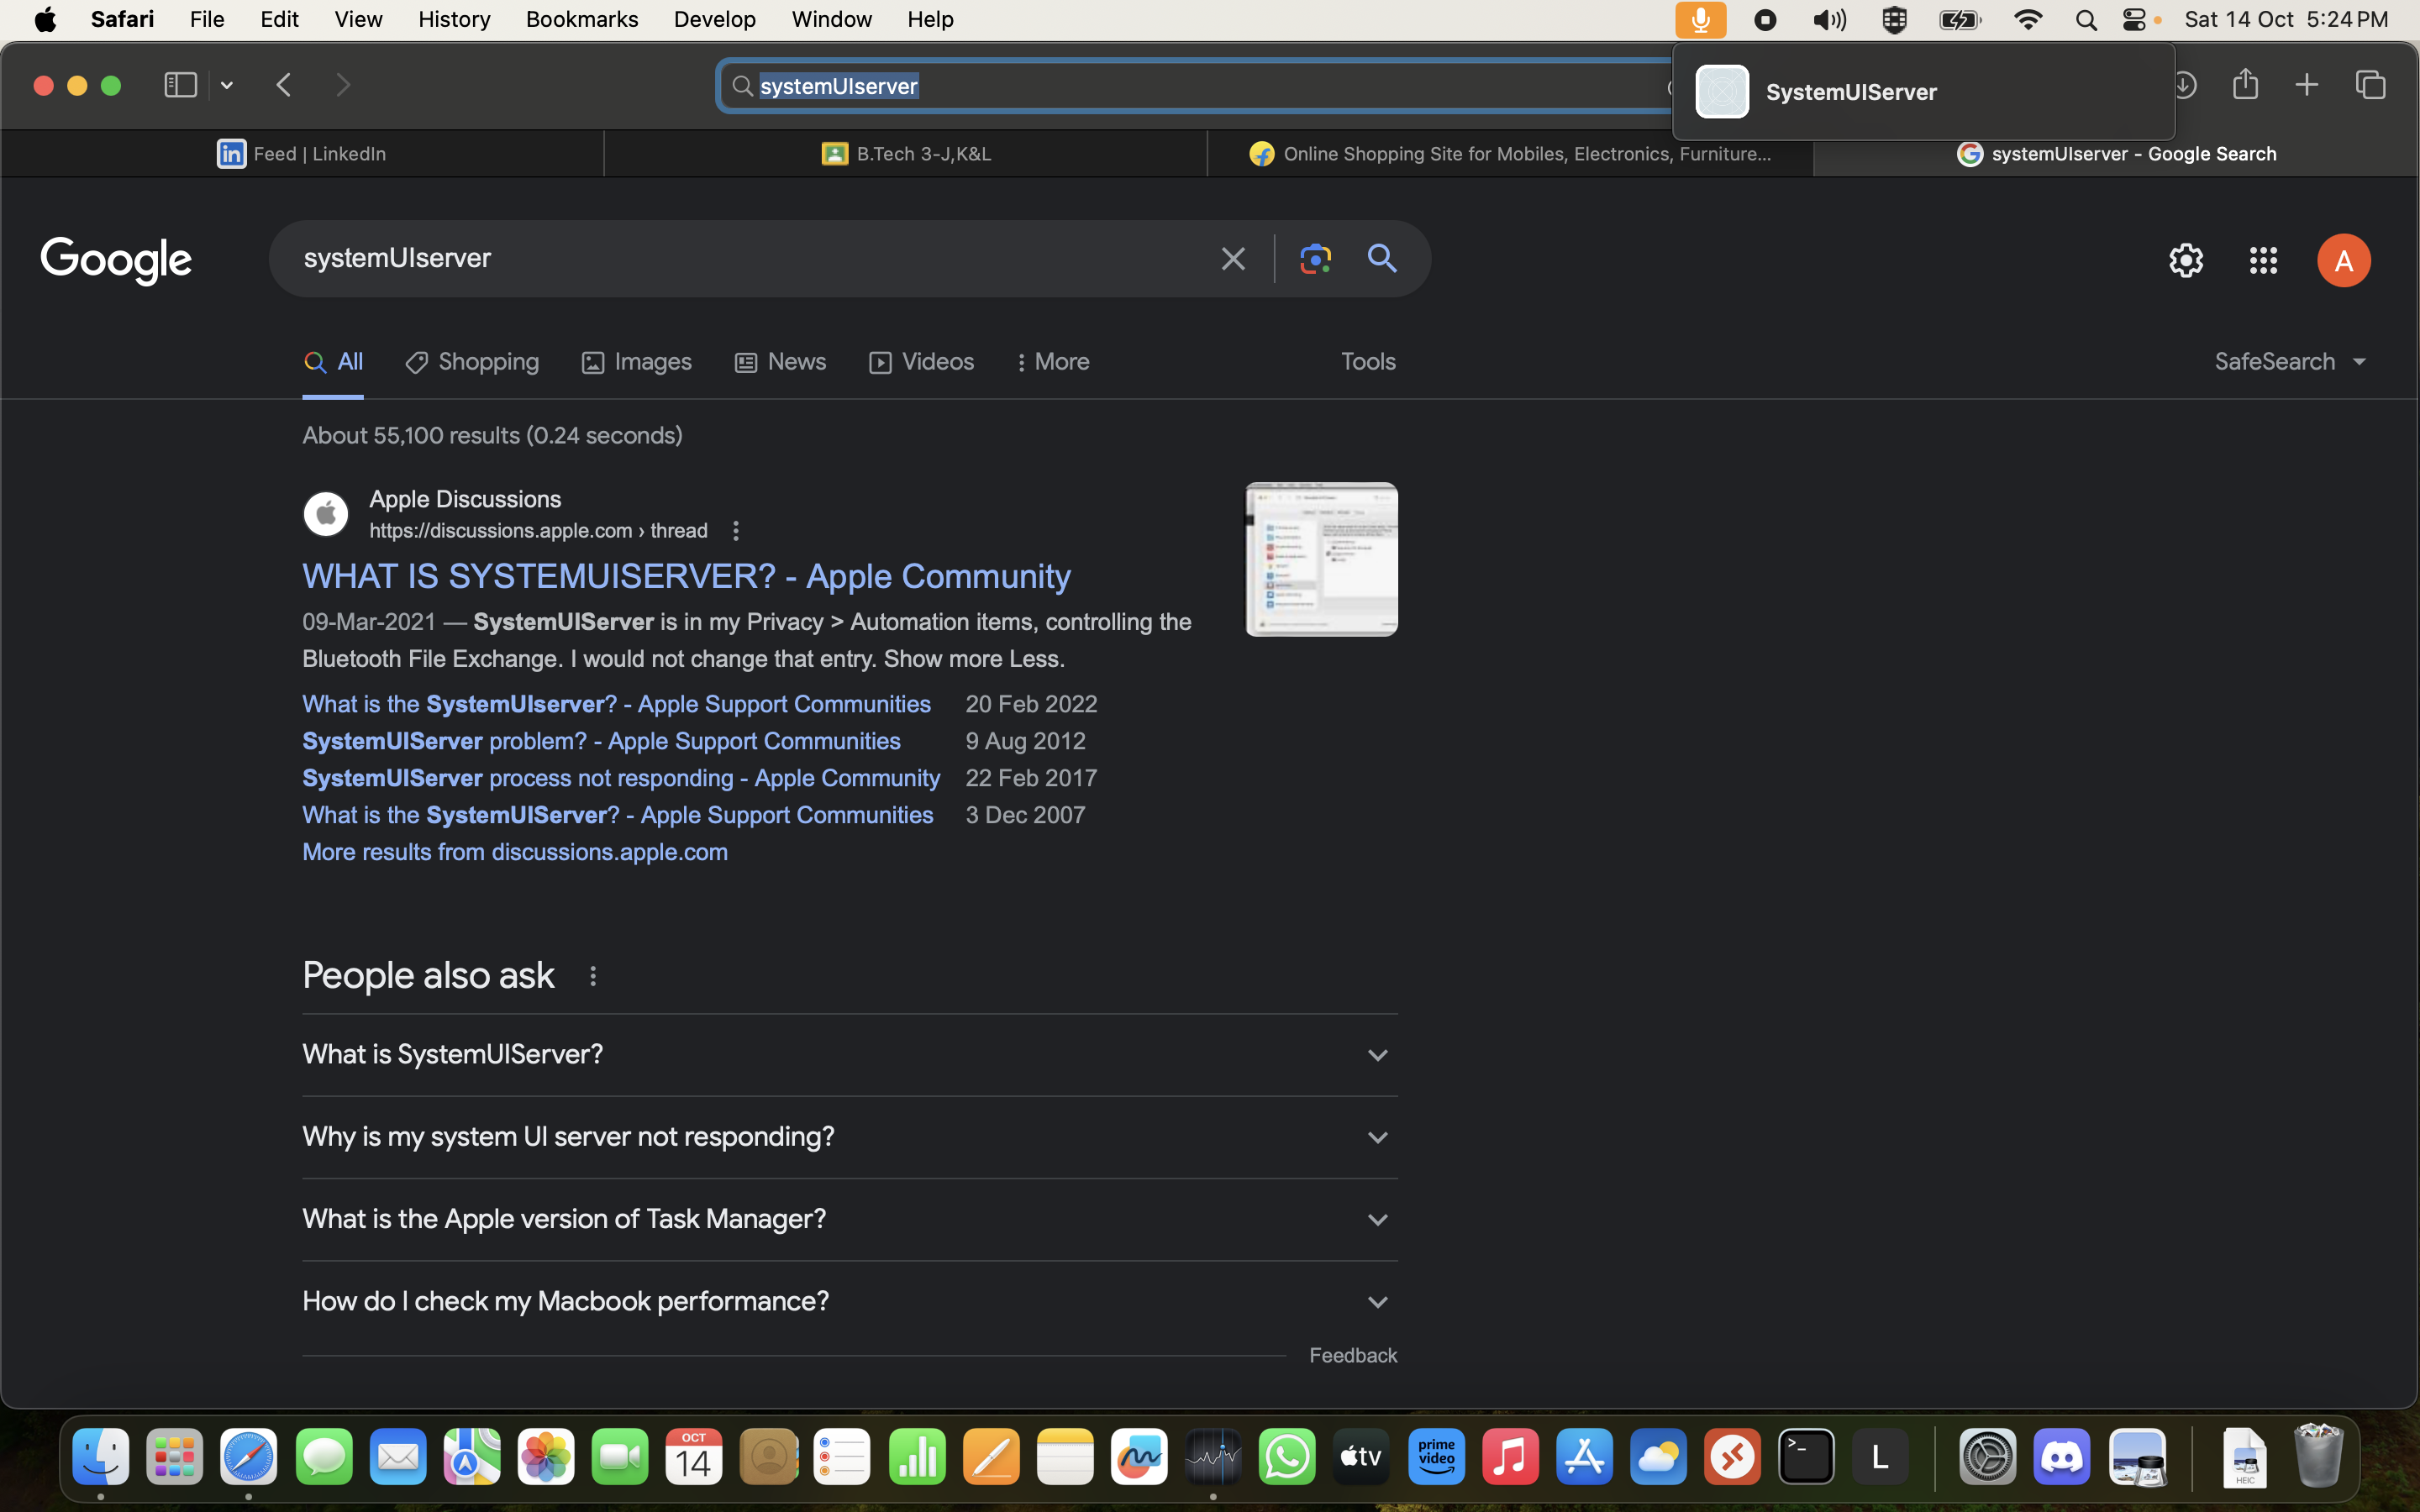Image: (1239, 470, 1403, 641)
Paragraph: (287, 693, 950, 874), (294, 613, 1211, 669), (291, 552, 1087, 596), (277, 1197, 850, 1251), (281, 1282, 847, 1334), (294, 1111, 850, 1162), (953, 693, 1136, 833), (298, 418, 740, 463), (287, 1028, 624, 1087), (277, 223, 517, 291), (24, 223, 213, 301), (281, 467, 587, 510), (599, 336, 723, 387), (432, 340, 559, 387), (1033, 343, 1108, 380), (906, 350, 988, 380), (779, 350, 836, 375), (336, 354, 375, 380)
